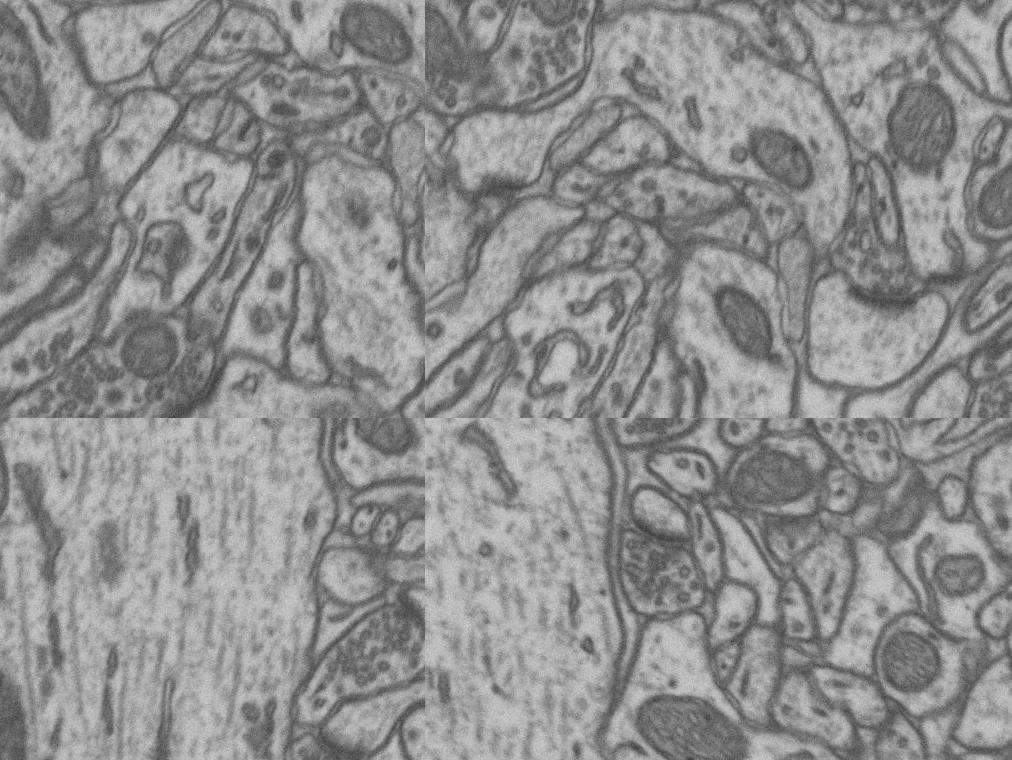mitochondria: (615, 676, 745, 760), (0, 0, 66, 154), (881, 71, 971, 182), (0, 618, 67, 760), (701, 270, 788, 370), (707, 438, 801, 530), (876, 624, 966, 712), (740, 116, 824, 198), (335, 0, 423, 76), (906, 542, 992, 616), (116, 309, 189, 390), (425, 0, 482, 89), (970, 150, 1012, 238), (333, 418, 415, 456), (516, 0, 592, 35), (914, 418, 1012, 438)
